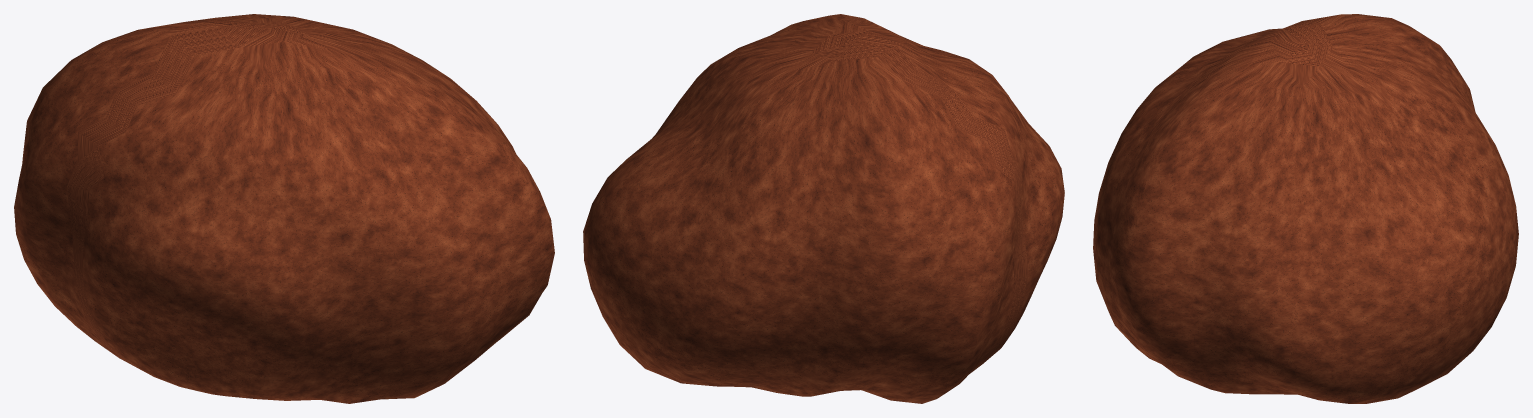
Rendered from obstacle_mid_1.dae.
The picture shows the model from 3 angles, left to right: view 1: azimuth 30°, elevation 25°; view 2: azimuth 150°, elevation 25°; view 3: azimuth 270°, elevation 25°; orthographic projection. The views are drawn at different scales.
Parts seen in each view (by area): view 1: obstacle_mid_1; view 2: obstacle_mid_1; view 3: obstacle_mid_1.
Boxes of the visible parts, x1,y1,x2,y2 form: obstacle_mid_1: [14, 14, 554, 403]; obstacle_mid_1: [583, 14, 1064, 403]; obstacle_mid_1: [1093, 14, 1518, 403].
Size of the model in its own units: 1 by 0.9538 by 0.7249.
Materials: 1 (1 with a texture image).
